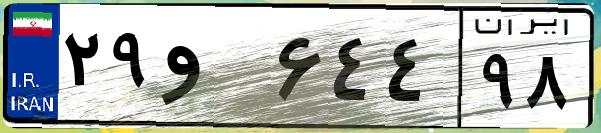2: (57, 26, 110, 100)
4: (385, 28, 445, 110), (330, 28, 385, 110)
6: (270, 28, 330, 110)
8: (525, 38, 570, 115)
9: (475, 38, 525, 113), (110, 28, 158, 98)
و: (158, 20, 270, 120)
